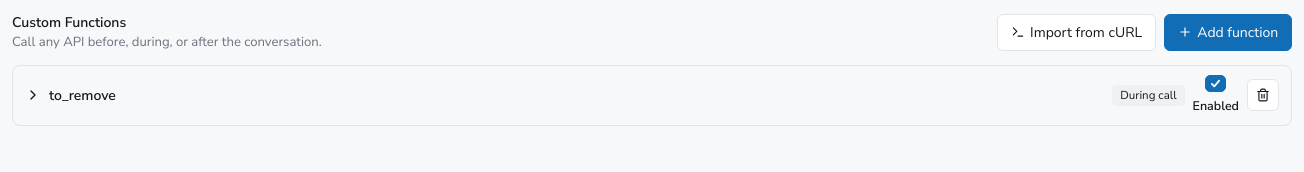
it: CustomFunctionsEditor › removes a function
The width and height of the screenshot is (1304, 172).
Step 1. Click the button titled "Remove function" → [1263, 95], box left=1247, top=79, right=1279, bottom=111
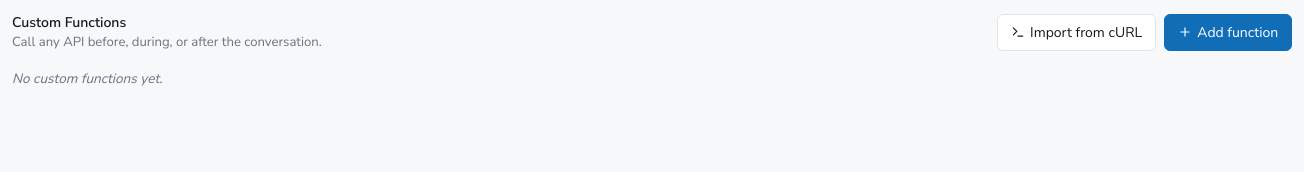
expect the text "No custom functions yet." is shown: met, box left=12, top=69, right=162, bottom=88
